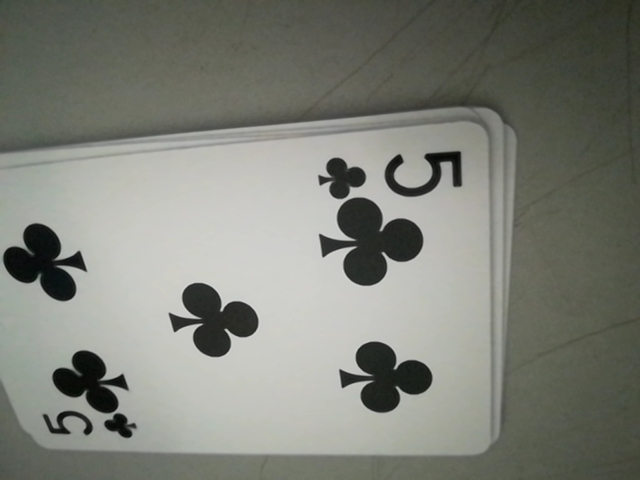mh 5: (310, 139, 468, 202), (37, 405, 138, 447)
